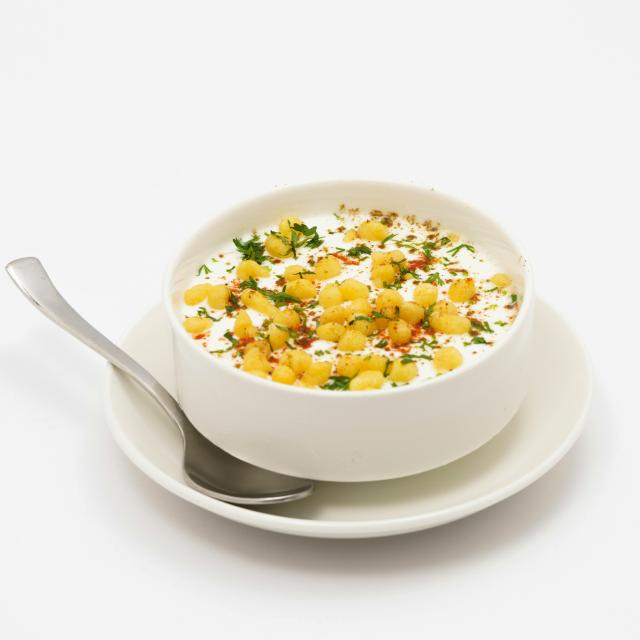Raita: (173, 194, 523, 393)
